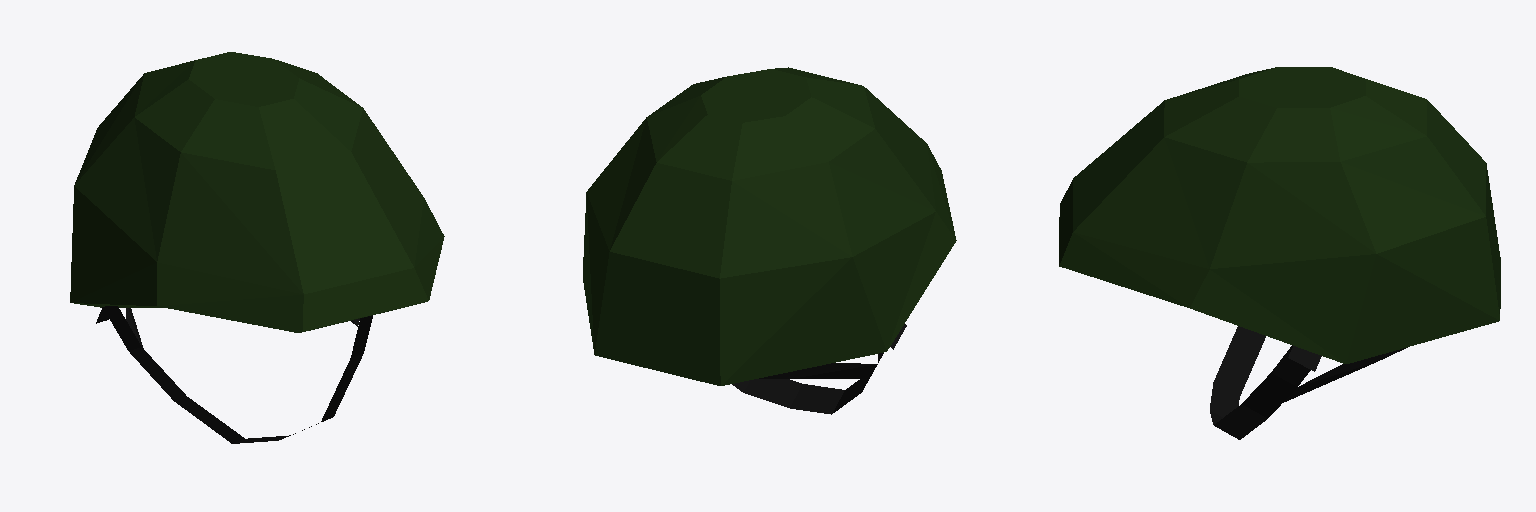
File: helmet.obj
3 renders of one model, left to right at view 1: azimuth 30°, elevation 25°; view 2: azimuth 150°, elevation 25°; view 3: azimuth 270°, elevation 25°, orthographic.
Parts seen in each view (by area): view 1: hat, strap; view 2: hat, strap; view 3: hat, strap.
Boxes of the visible parts, box(x1,y1,x2,y2) form: hat: box(70, 52, 444, 332); strap: box(96, 306, 372, 443); hat: box(583, 67, 956, 385); strap: box(732, 324, 906, 414); hat: box(1059, 67, 1500, 363); strap: box(1210, 326, 1407, 439).
Bounding box in the file's own units: 13.97 × 14.78 × 17.53.